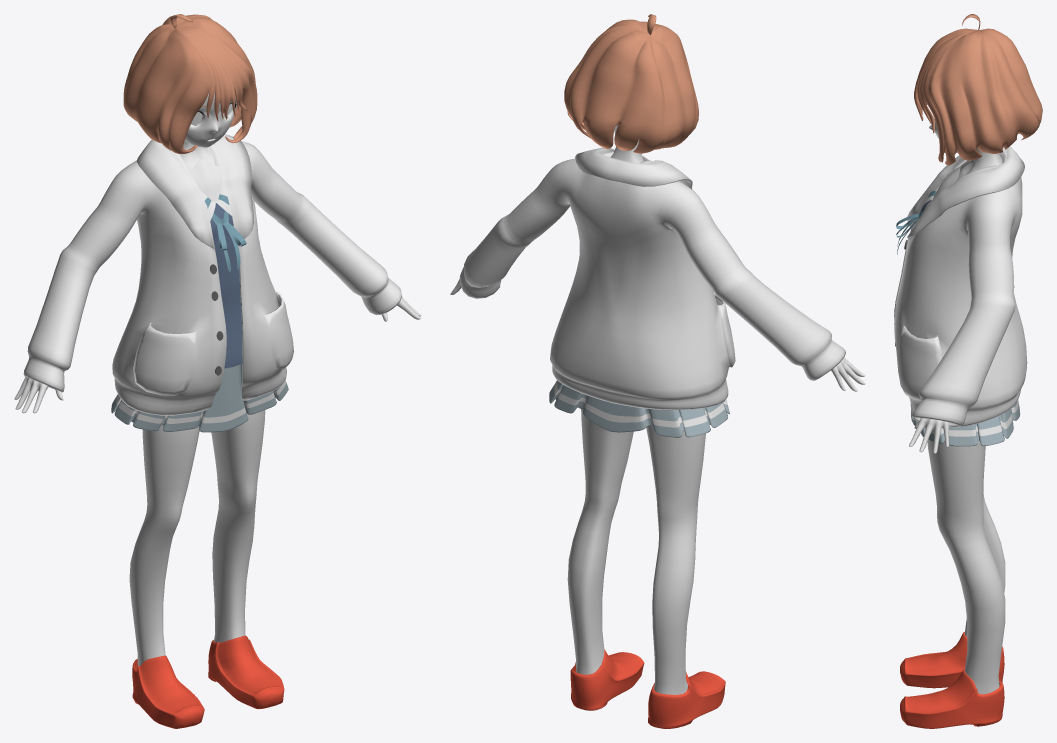
Rendered from mirai.fbx.
3 renders of one model, left to right at view 1: azimuth 30°, elevation 25°; view 2: azimuth 150°, elevation 25°; view 3: azimuth 270°, elevation 25°, orthographic. The views are drawn at different scales.
Parts seen in each view (by area): view 1: mirai jacket, mirai, mirai hair, mirai shoes, mirai sailor shirt, mirai skirt, mirai ribbin; view 2: mirai jacket, mirai, mirai hair, mirai shoes, mirai skirt; view 3: mirai jacket, mirai hair, mirai, mirai shoes, mirai skirt, mirai sailor shirt, mirai ribbin.
Part boxes in pixels (box(x1,y1,x2,y2)): mirai jacket: box(23, 134, 401, 415); mirai: box(14, 92, 421, 666); mirai hair: box(123, 14, 257, 153); mirai shoes: box(132, 635, 284, 728); mirai sailor shirt: box(170, 143, 242, 368); mirai skirt: box(111, 364, 288, 432); mirai ribbin: box(212, 210, 246, 271); mirai jacket: box(459, 147, 845, 409); mirai: box(450, 125, 865, 694); mirai hair: box(564, 14, 698, 153); mirai shoes: box(570, 649, 725, 728); mirai skirt: box(549, 380, 729, 437); mirai jacket: box(894, 146, 1027, 427); mirai hair: box(914, 14, 1042, 165); mirai: box(909, 118, 1005, 694); mirai shoes: box(900, 632, 1004, 728); mirai skirt: box(910, 399, 1020, 446); mirai sailor shirt: box(920, 149, 1005, 211); mirai ribbin: box(896, 202, 927, 254).
Bounding box in the file's own units: 216 × 354 × 70.39.
